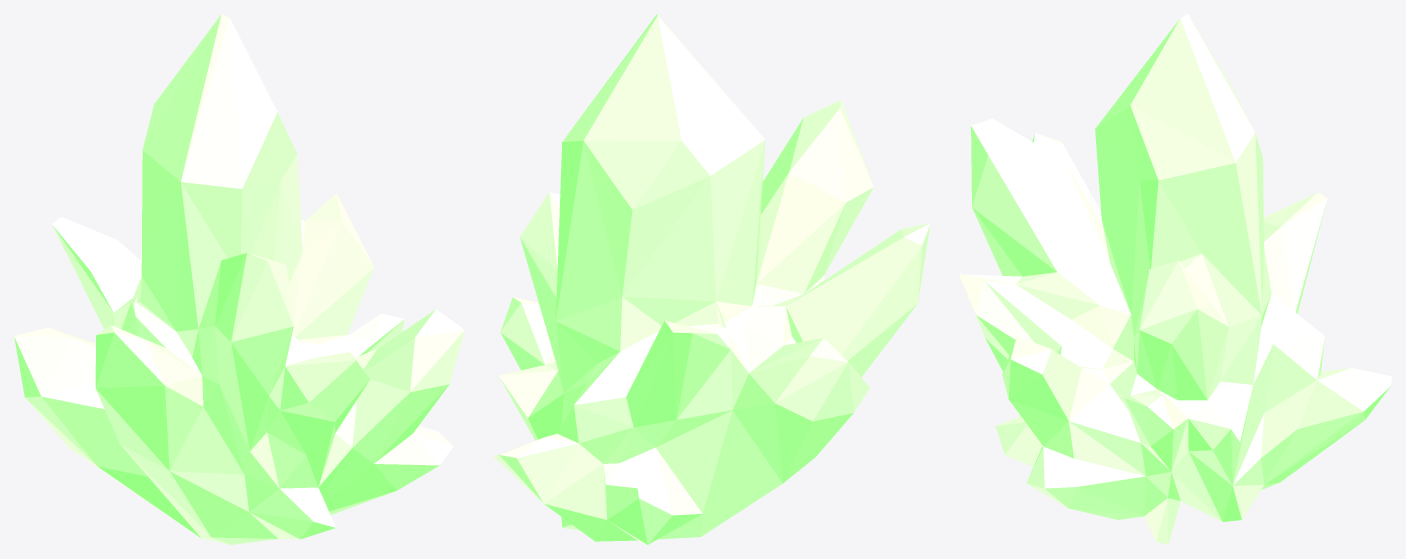
Rendered from Crystal.fbx.
3 renders of one model, left to right at view 1: azimuth 30°, elevation 25°; view 2: azimuth 150°, elevation 25°; view 3: azimuth 270°, elevation 25°, orthographic. The views are drawn at different scales.
Visible parts, largest first — view 1: mesh; view 2: mesh; view 3: mesh.
Boxes of the visible parts, bbox=[...] form: mesh: bbox=[14, 14, 464, 544]; mesh: bbox=[494, 14, 930, 544]; mesh: bbox=[959, 14, 1391, 544].
Bounding box in the file's own units: 72.39 × 78.57 × 101.
